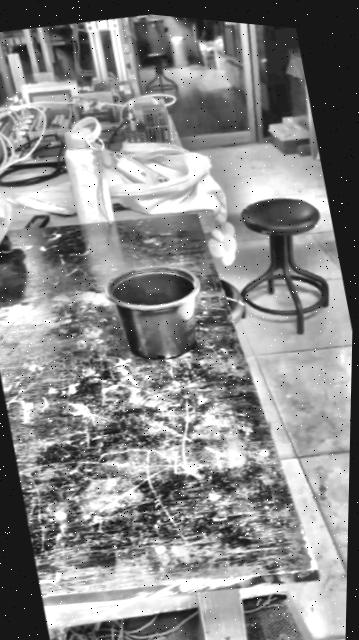pot: (100, 253, 211, 371)
